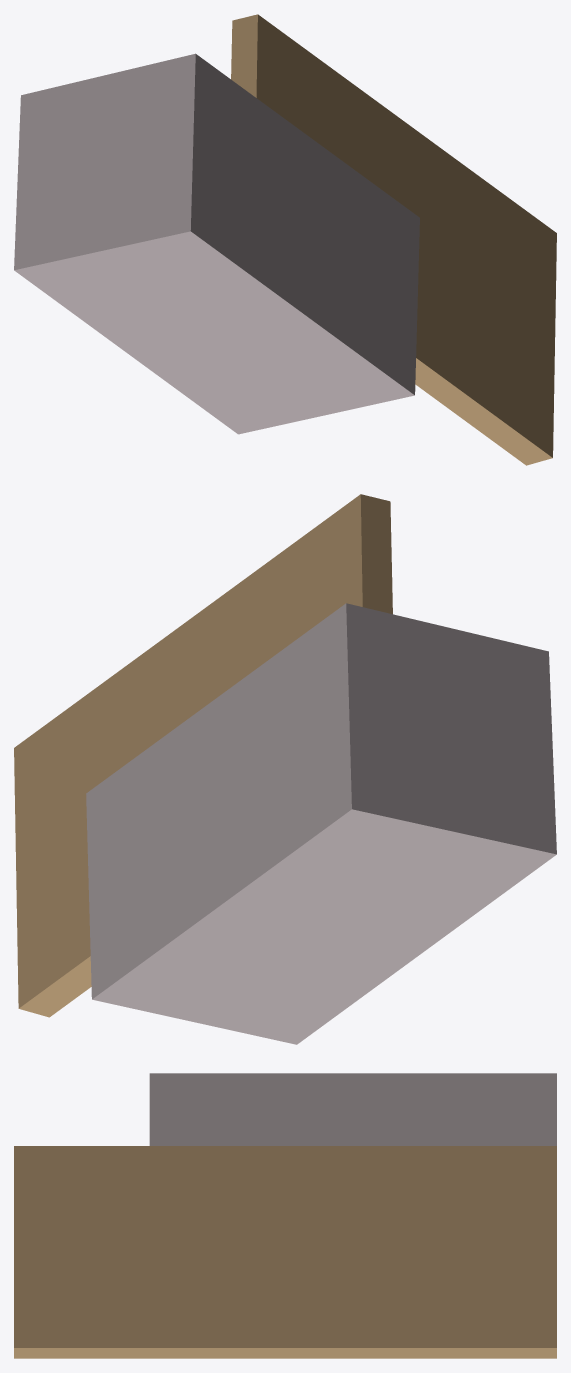
The picture shows the model from 3 angles, top to bottom: view 1: azimuth 30°, elevation 25°; view 2: azimuth 150°, elevation 25°; view 3: azimuth 270°, elevation 25°; orthographic projection. The views are drawn at different scales.
Visible parts, largest first — view 1: 0_2_1_3_0_0_2_3_3_0_0; view 2: 0_2_1_3_0_0_2_3_3_0_0; view 3: 0_2_1_3_0_0_2_3_3_0_0.
Boxes of the visible parts, bbox=[...] form: 0_2_1_3_0_0_2_3_3_0_0: bbox=[14, 14, 556, 465]; 0_2_1_3_0_0_2_3_3_0_0: bbox=[14, 494, 556, 1044]; 0_2_1_3_0_0_2_3_3_0_0: bbox=[14, 1073, 556, 1358].
Size of the model in its own units: 11.31 by 9.96 by 24.
